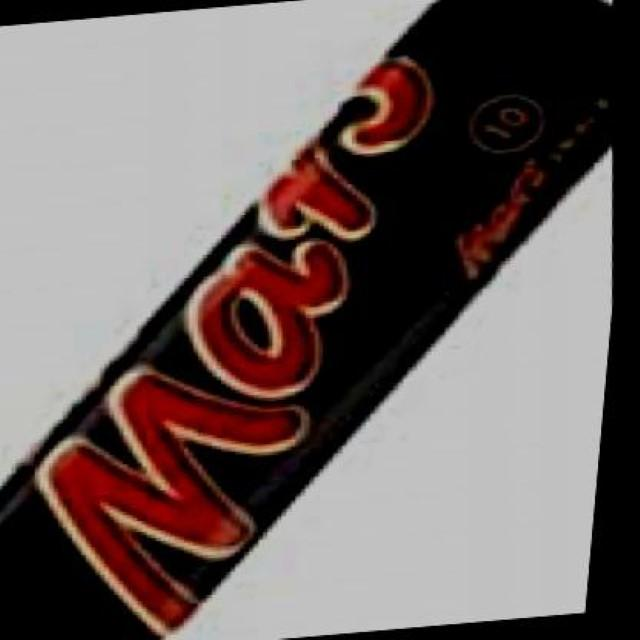mars_chocolate: (0, 35, 570, 640)
